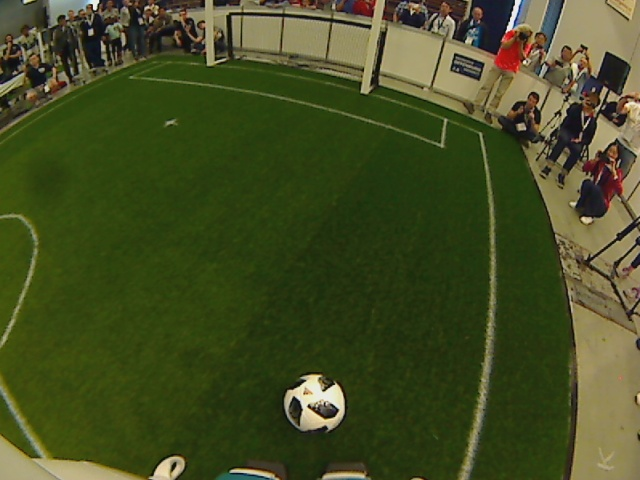ball: (281, 371, 346, 437)
